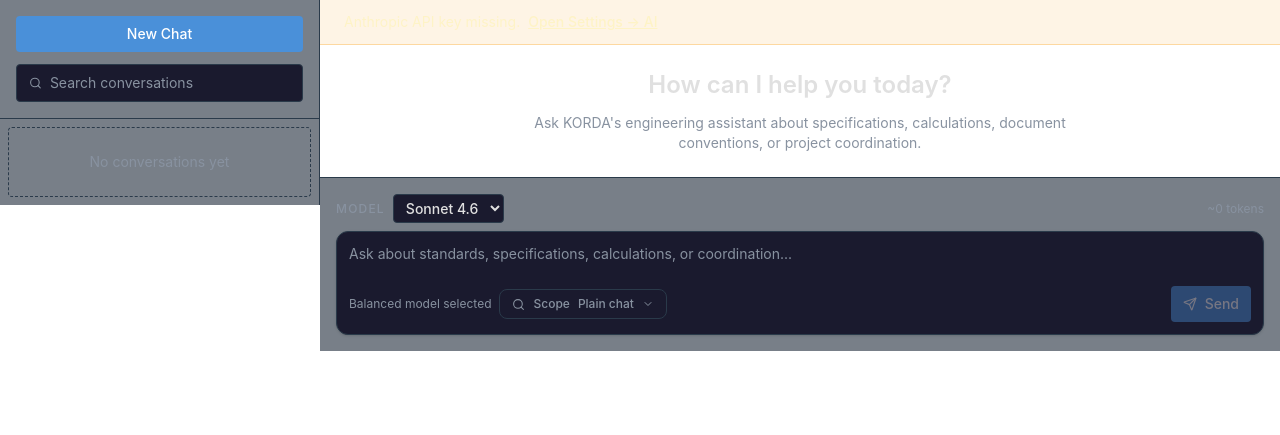
Test case: ChatModule › sends a message, streams tokens, and appends the final assistant reply
Replace the text in the text box with "Explain the revision history.": coordinates (800, 256) [349, 244, 1251, 268]
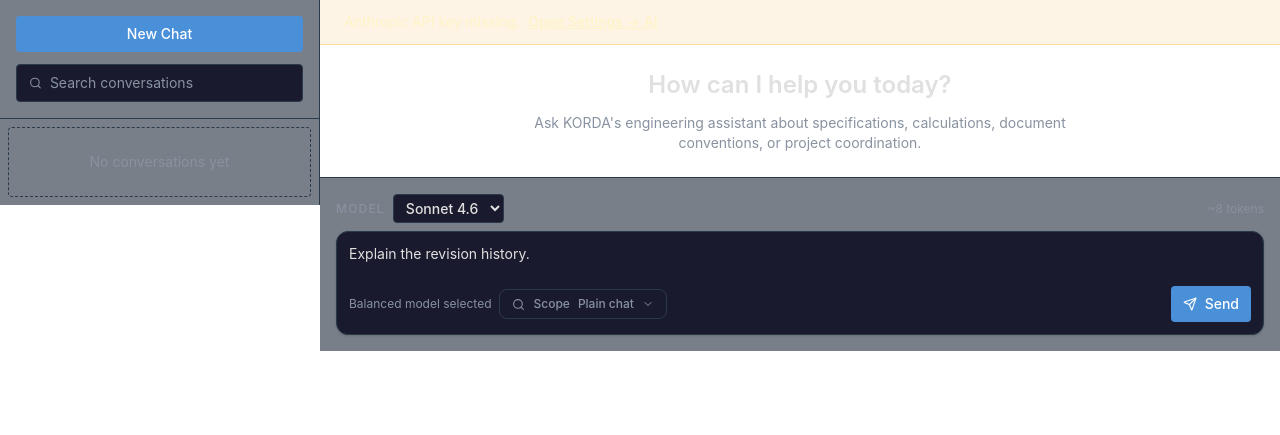
Click the button with aria-label "send message": coordinates (1211, 304) [1171, 286, 1251, 322]
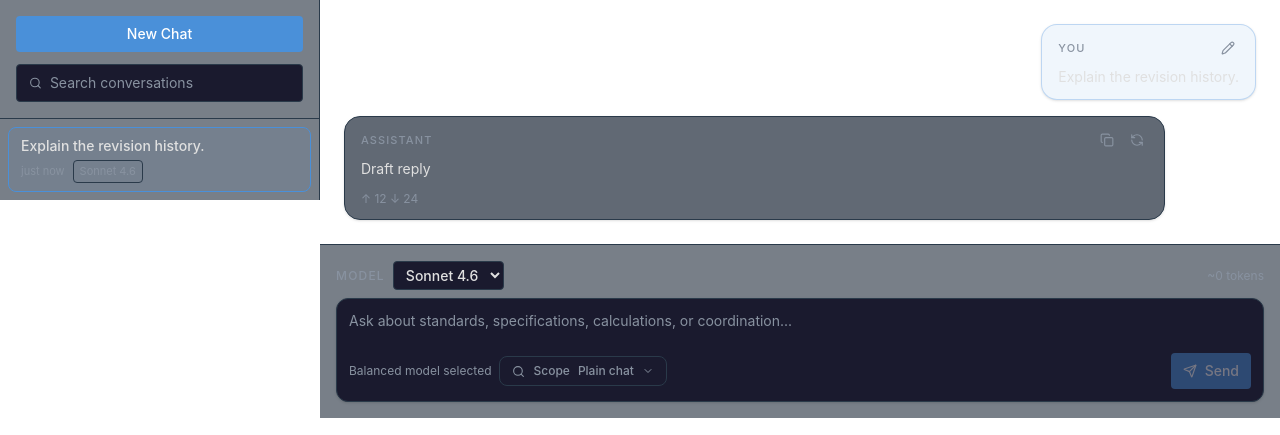
Expected: the text "↑ 12 ↓ 24" is shown, [361, 191, 418, 206]
Expected: the text "Draft reply" is shown, [361, 160, 431, 177]
